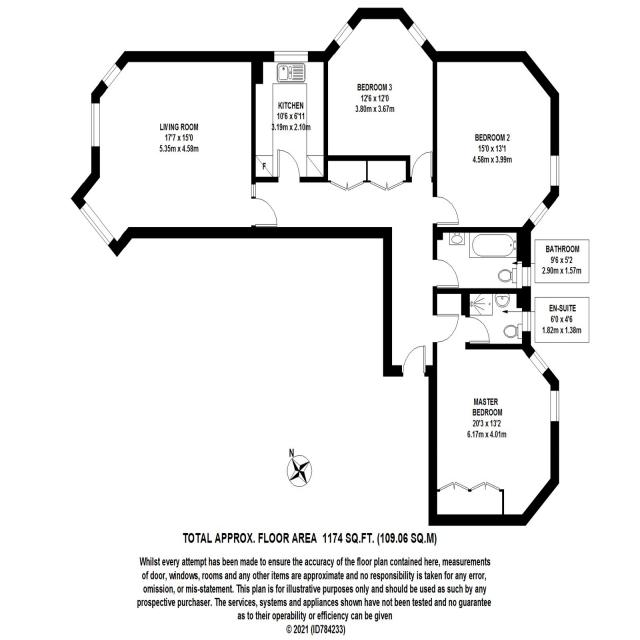DOOR: (276, 148, 301, 183), (432, 195, 460, 226), (433, 258, 460, 288), (251, 198, 278, 228), (402, 345, 427, 377), (432, 314, 459, 343), (465, 316, 491, 344), (411, 151, 433, 183)
ROOM: (70, 51, 278, 258), (428, 288, 560, 527), (432, 51, 560, 233), (323, 7, 438, 183), (251, 51, 328, 183)
WINDOW: (79, 201, 115, 247), (332, 20, 355, 49), (407, 21, 428, 49), (528, 200, 549, 227), (101, 62, 122, 89), (528, 350, 549, 376), (273, 50, 309, 63), (91, 103, 100, 147), (550, 154, 560, 188), (550, 390, 560, 422), (522, 311, 531, 332), (522, 266, 531, 287), (251, 184, 256, 197)
